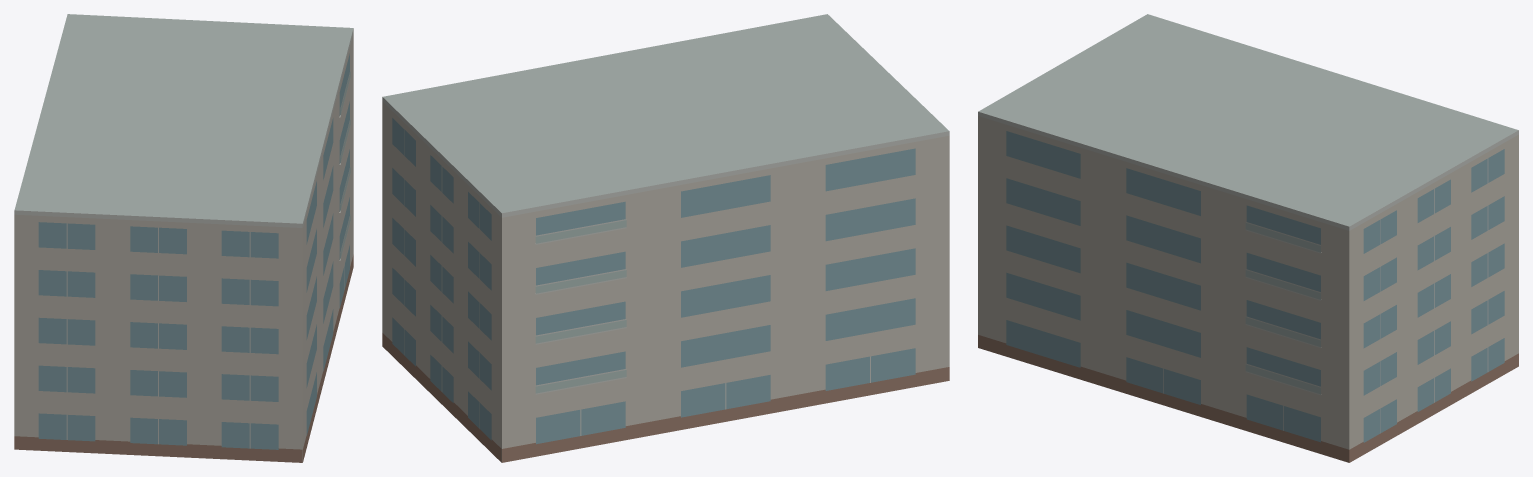
File: survey-upis-32540862.glb
3 views of the same model, side by side, from view 1: azimuth 30°, elevation 25°; view 2: azimuth 150°, elevation 25°; view 3: azimuth 270°, elevation 25° (orthographic). The views are drawn at different scales.
Visible parts, largest first — view 1: survey-upis-32540862.tmp; view 2: survey-upis-32540862.tmp; view 3: survey-upis-32540862.tmp.
Part boxes in pixels (x1,y1,x2,y2): survey-upis-32540862.tmp: (14, 14, 353, 462); survey-upis-32540862.tmp: (382, 14, 949, 462); survey-upis-32540862.tmp: (978, 14, 1518, 462).
Bounding box in the file's own units: 26.07 × 13.5 × 28.01.
